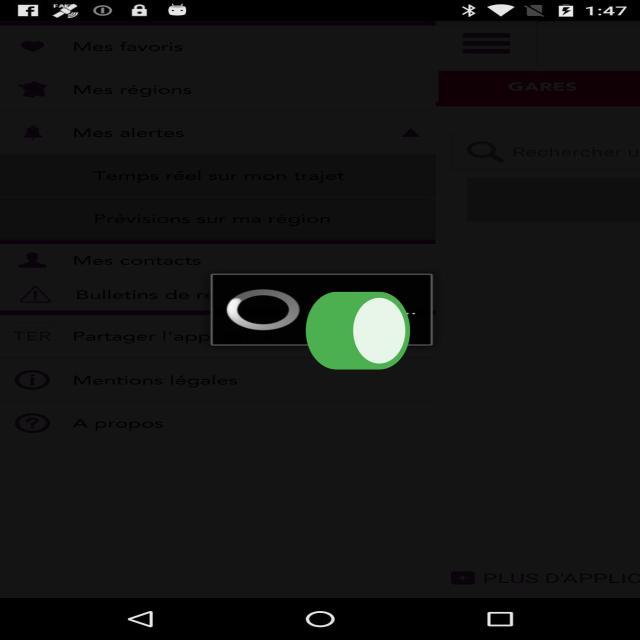social proof: (301, 262, 415, 405)
